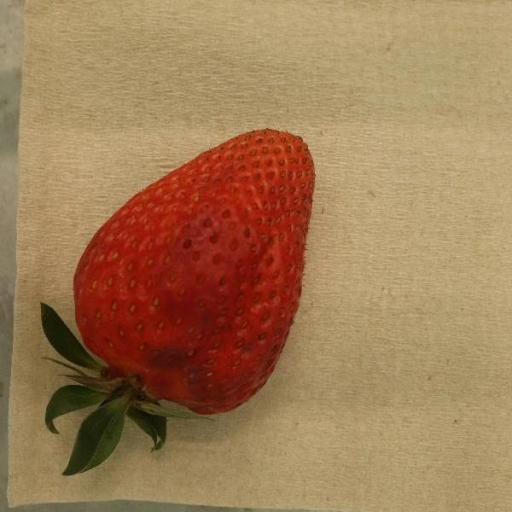Strawberry: (40, 129, 316, 478)
